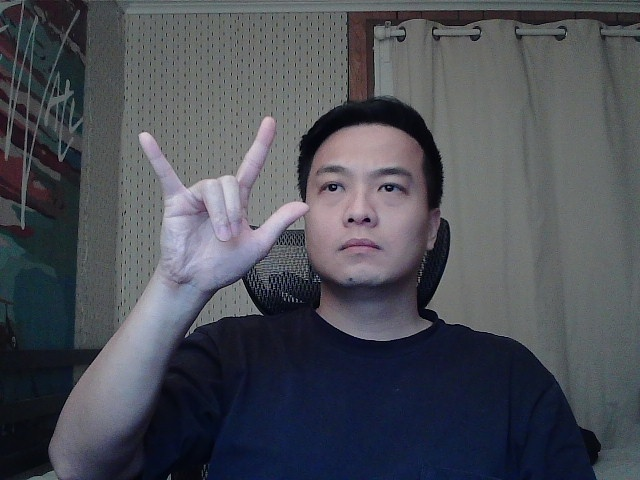I Love You: (125, 105, 318, 307)
